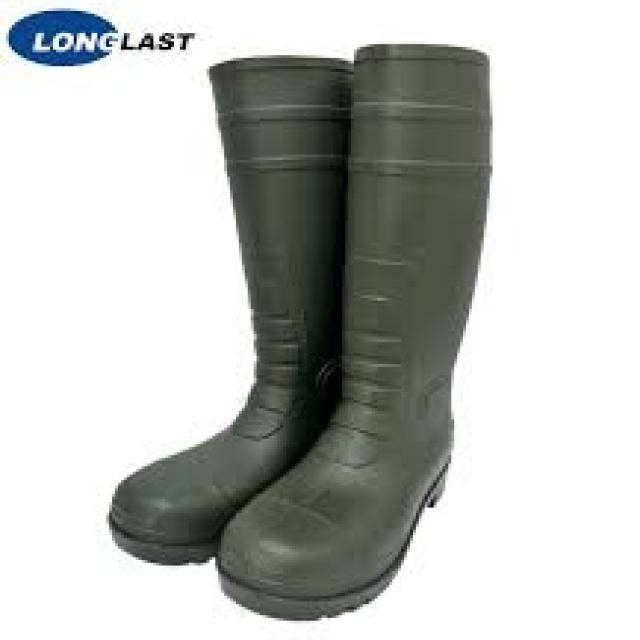shoes: (110, 45, 490, 618)
